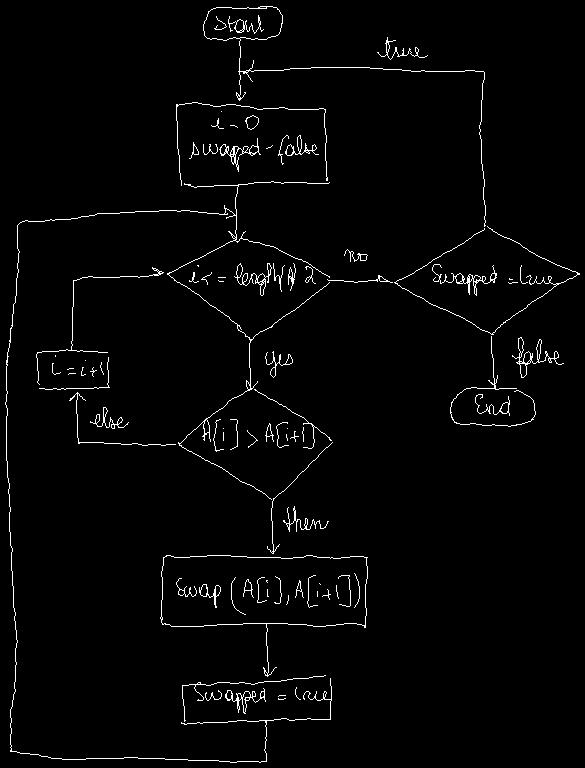arrow: (5, 205, 266, 762), (238, 60, 485, 226), (71, 267, 163, 350), (69, 392, 175, 445), (228, 185, 245, 242), (263, 624, 276, 676), (267, 500, 279, 553), (246, 340, 257, 390), (236, 39, 245, 100), (488, 336, 497, 387), (327, 275, 392, 282)
decision: (394, 226, 579, 334), (178, 389, 332, 499), (167, 238, 329, 340)
process: (160, 555, 367, 627), (176, 102, 329, 187), (181, 675, 331, 724), (36, 349, 109, 389)
terminator: (450, 387, 535, 426), (203, 6, 282, 40)
text: (189, 111, 318, 171), (176, 573, 359, 614), (194, 682, 330, 713), (189, 263, 315, 295), (432, 264, 558, 295), (202, 419, 314, 451), (512, 337, 563, 377), (283, 506, 328, 531), (377, 37, 427, 59), (52, 355, 103, 376), (214, 15, 263, 33), (90, 407, 128, 428), (475, 394, 509, 415), (265, 351, 292, 377), (344, 249, 367, 261)
